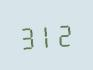one: (37, 20, 54, 49)
three: (18, 21, 35, 50)
two: (55, 19, 72, 48)
